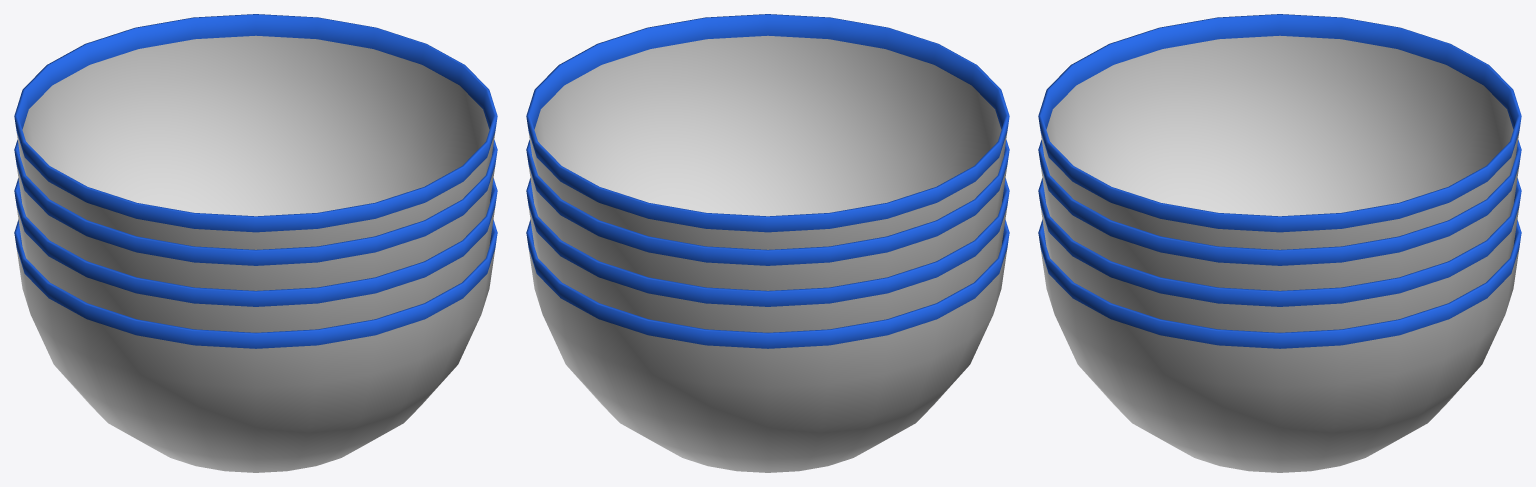
File: stack_of_bowls.fbx
3 renders of one model, left to right at view 1: azimuth 30°, elevation 25°; view 2: azimuth 150°, elevation 25°; view 3: azimuth 270°, elevation 25°, orthographic.
Parts seen in each view (by area): view 1: bowl.005; view 2: bowl.005; view 3: bowl.005.
Part boxes in pixels (x1,y1,x2,y2): bowl.005: [14, 14, 497, 472]; bowl.005: [526, 14, 1009, 472]; bowl.005: [1038, 14, 1521, 472].
Bounding box in the file's own units: 146 × 111 × 146.
